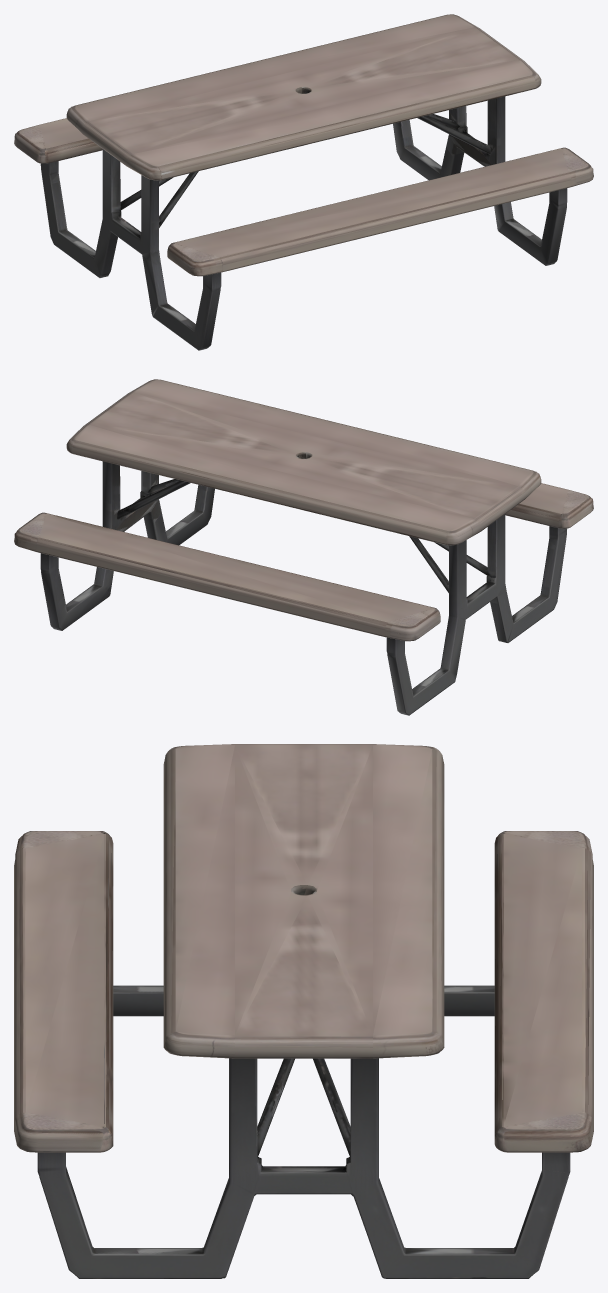
The model's file is plastic_picnic_table_0126175325_texture.glb.
3 views of the same model, one above another, from view 1: azimuth 30°, elevation 25°; view 2: azimuth 150°, elevation 25°; view 3: azimuth 270°, elevation 25° (orthographic). The views are drawn at different scales.
Visible parts, largest first — view 1: Mesh_0; view 2: Mesh_0; view 3: Mesh_0.
Part boxes in pixels (left/top/right/bottom): Mesh_0: left=14, top=14, right=593, bottom=350; Mesh_0: left=14, top=379, right=593, bottom=715; Mesh_0: left=14, top=744, right=593, bottom=1278.
Size of the model in its own units: 1.96 by 0.762 by 1.58.
Materials: 1 (1 with a texture image).
